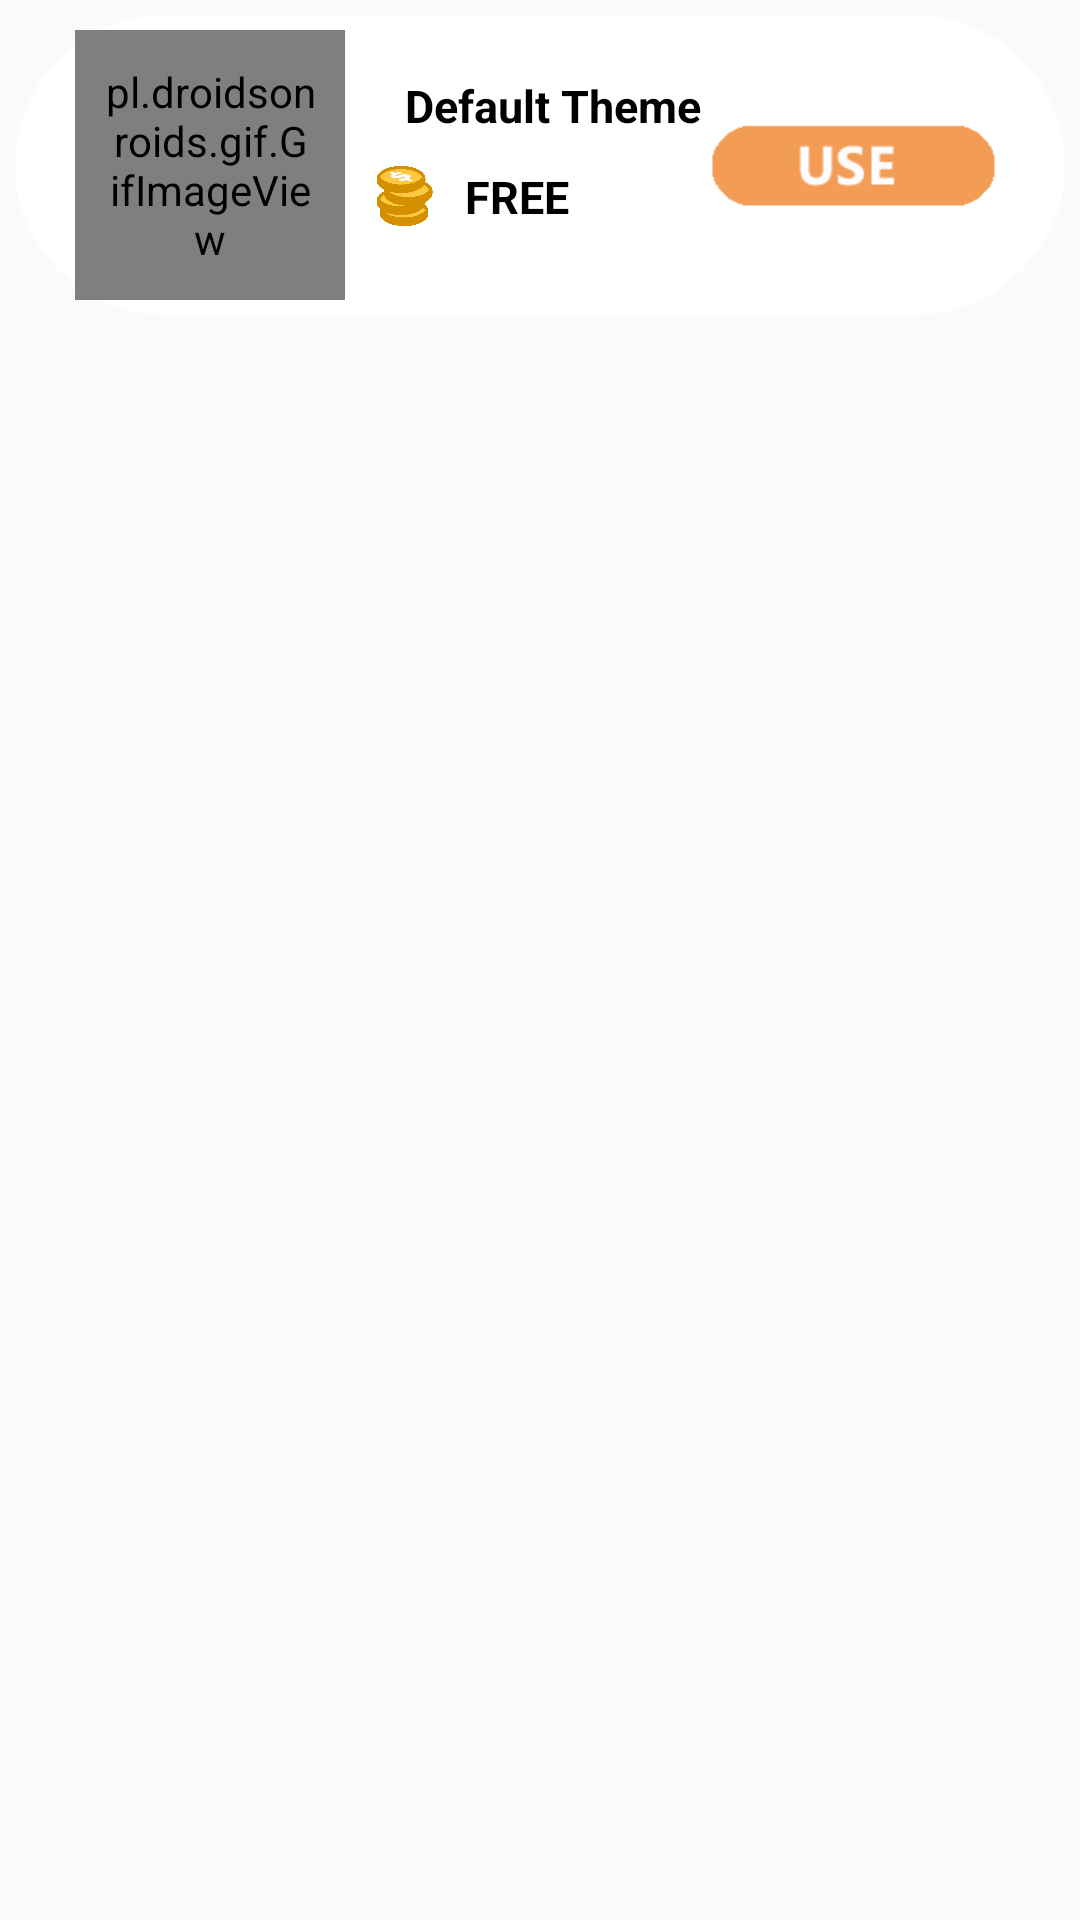

Where to tap for icons on this 1080x1920 app screen, as [x,y]:
coin: [405,196]
